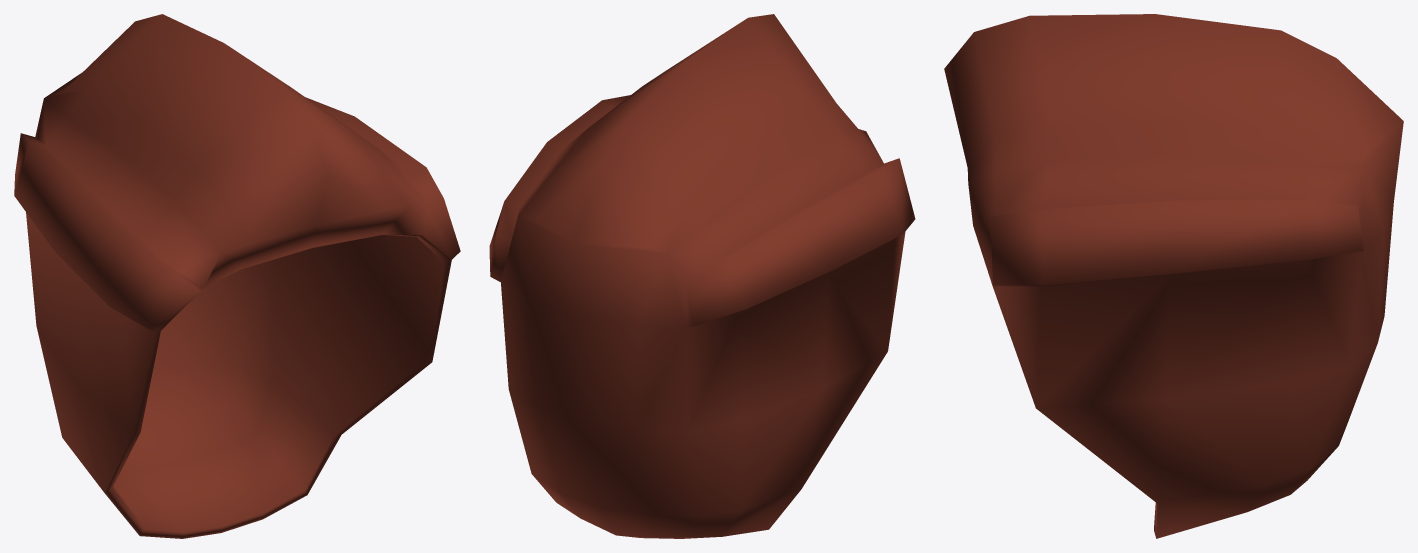
The model's file is hair.glb.
3 renders of one model, left to right at view 1: azimuth 30°, elevation 25°; view 2: azimuth 150°, elevation 25°; view 3: azimuth 270°, elevation 25°, orthographic. The views are drawn at different scales.
Parts seen in each view (by area): view 1: hair2.001; view 2: hair2.001; view 3: hair2.001.
Boxes of the visible parts, box(x1,y1,x2,y2) form: hair2.001: box(14, 14, 460, 538); hair2.001: box(489, 14, 915, 538); hair2.001: box(944, 14, 1403, 538).
Size of the model in its own units: 2.79 by 3.88 by 3.22.
